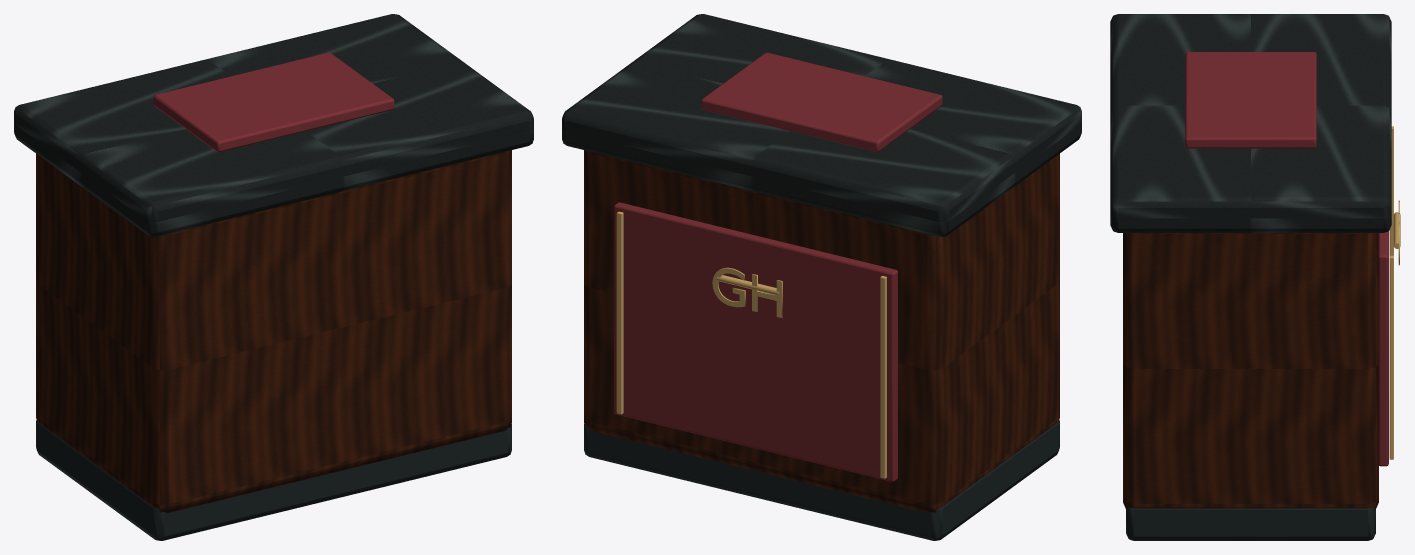
The model's file is hotel-host-stand.glb.
3 views of the same model, side by side, from view 1: azimuth 30°, elevation 25°; view 2: azimuth 150°, elevation 25°; view 3: azimuth 270°, elevation 25° (orthographic).
Parts seen in each view (by area): view 1: Static | Walnut | original longitudinal grain.007, Static | Green marble | original mineral veins.007, Static | Oxblood leather.007, Static | Ebony and deep recesses.007; view 2: Static | Walnut | original longitudinal grain.007, Static | Oxblood leather.007, Static | Green marble | original mineral veins.007, Static | Ebony and deep recesses.007, Static | Aged champagne brass.007; view 3: Static | Walnut | original longitudinal grain.007, Static | Green marble | original mineral veins.007, Static | Oxblood leather.007, Static | Ebony and deep recesses.007, Static | Aged champagne brass.007.
Boxes of the visible parts, left/top/right/bottom form: Static | Walnut | original longitudinal grain.007: left=36, top=150, right=511, bottom=513; Static | Green marble | original mineral veins.007: left=14, top=14, right=533, bottom=236; Static | Oxblood leather.007: left=153, top=52, right=394, bottom=152; Static | Ebony and deep recesses.007: left=36, top=420, right=511, bottom=540; Static | Walnut | original longitudinal grain.007: left=584, top=150, right=1059, bottom=513; Static | Oxblood leather.007: left=614, top=52, right=942, bottom=481; Static | Green marble | original mineral veins.007: left=562, top=14, right=1081, bottom=236; Static | Ebony and deep recesses.007: left=584, top=420, right=1059, bottom=540; Static | Aged champagne brass.007: left=616, top=211, right=886, bottom=478; Static | Walnut | original longitudinal grain.007: left=1123, top=233, right=1378, bottom=509; Static | Green marble | original mineral veins.007: left=1110, top=14, right=1391, bottom=232; Static | Oxblood leather.007: left=1185, top=52, right=1388, bottom=466; Static | Ebony and deep recesses.007: left=1126, top=507, right=1375, bottom=540; Static | Aged champagne brass.007: left=1389, top=126, right=1400, bottom=459.
Size of the model in its own units: 1.35 by 1.2 by 0.8728.
Materials: 5 (2 with a texture image).
